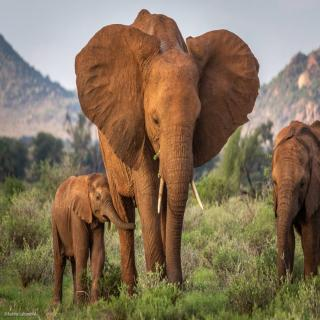Elephant: (74, 5, 261, 305), (49, 171, 138, 310), (270, 117, 320, 292)
